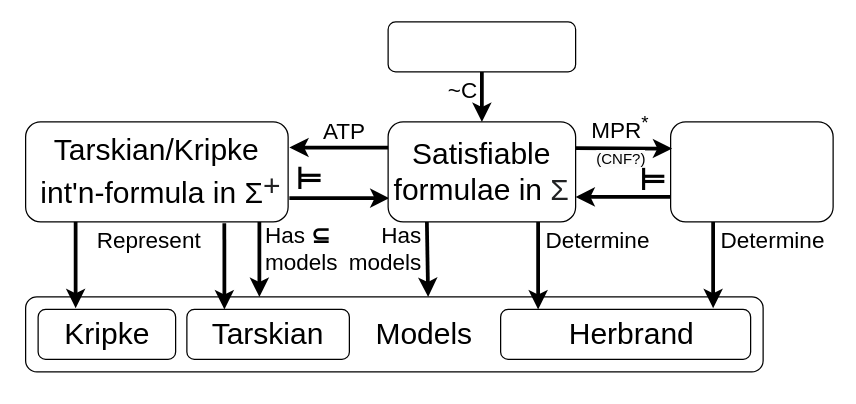
This 856x404 diagram has some shape labels left out. The box of each missing label's shape, as (x1, y1, x2, y2) in pixels:
Ax ⊨ C in Σ: (387, 21, 576, 72)
Formulae in Σ +: (669, 121, 833, 222)
